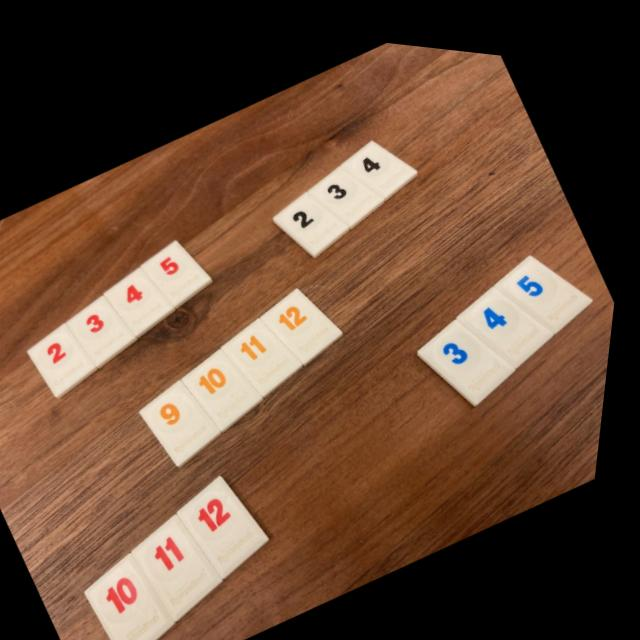black_2: (278, 185, 354, 249)
black_3: (313, 159, 388, 220)
black_4: (344, 132, 420, 190)
blue_3: (426, 308, 522, 394)
blue_4: (464, 275, 560, 355)
blue_5: (500, 242, 598, 320)
orange_10: (191, 343, 272, 426)
orange_11: (229, 311, 310, 390)
orange_12: (267, 281, 349, 357)
orange_9: (149, 375, 231, 461)
red_10: (99, 549, 188, 640)
red_11: (145, 509, 236, 616)
red_12: (189, 470, 281, 572)
red_2: (36, 321, 105, 396)
red_3: (74, 292, 144, 365)
red_4: (111, 264, 182, 334)
red_5: (148, 236, 218, 303)
